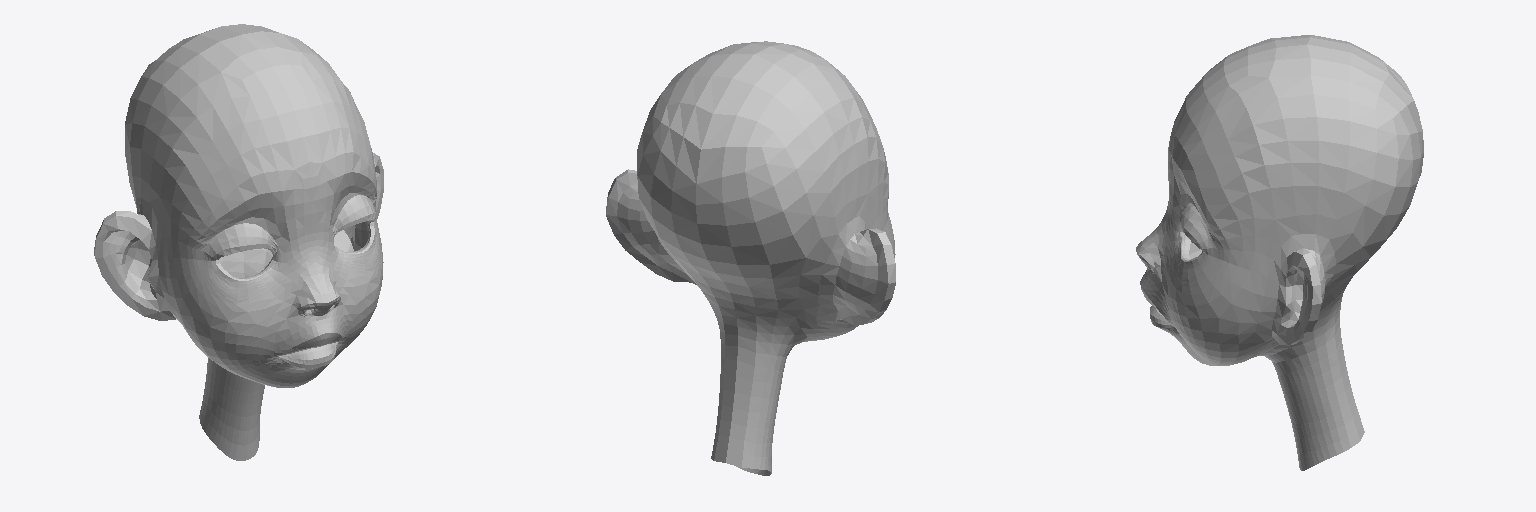
File: outterBrowRaiserReverse.obj
3 views of the same model, side by side, from view 1: azimuth 30°, elevation 25°; view 2: azimuth 150°, elevation 25°; view 3: azimuth 270°, elevation 25° (orthographic).
Visible parts, largest first — view 1: ZBrushPolyMesh3D; view 2: ZBrushPolyMesh3D; view 3: ZBrushPolyMesh3D.
Part boxes in pixels (bbox=[...]): ZBrushPolyMesh3D: bbox=[94, 24, 383, 460]; ZBrushPolyMesh3D: bbox=[606, 41, 895, 475]; ZBrushPolyMesh3D: bbox=[1136, 35, 1423, 470].
Bounding box in the file's own units: 5.74 × 8.03 × 4.96.